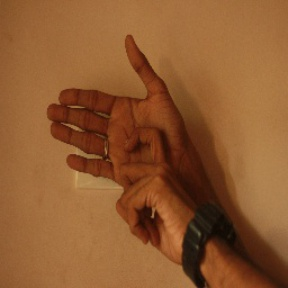R: (50, 32, 191, 243)
